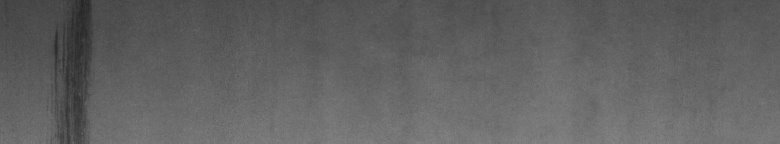ka: (47, 4, 100, 136)
